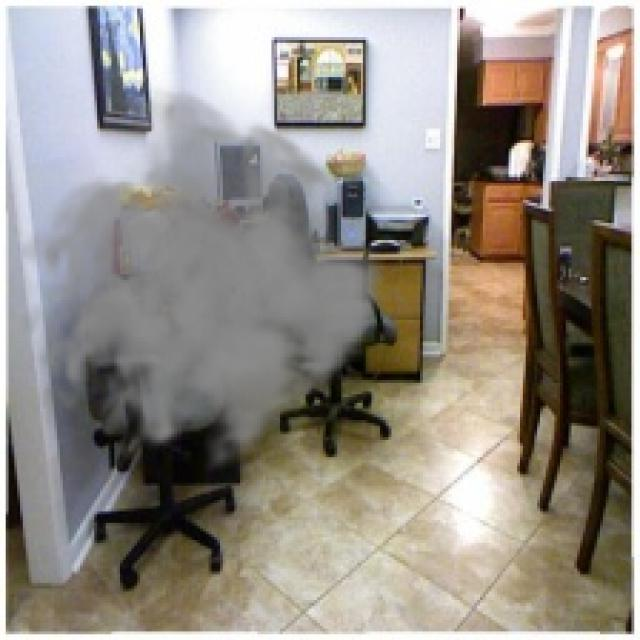smoke: (17, 83, 389, 486)
